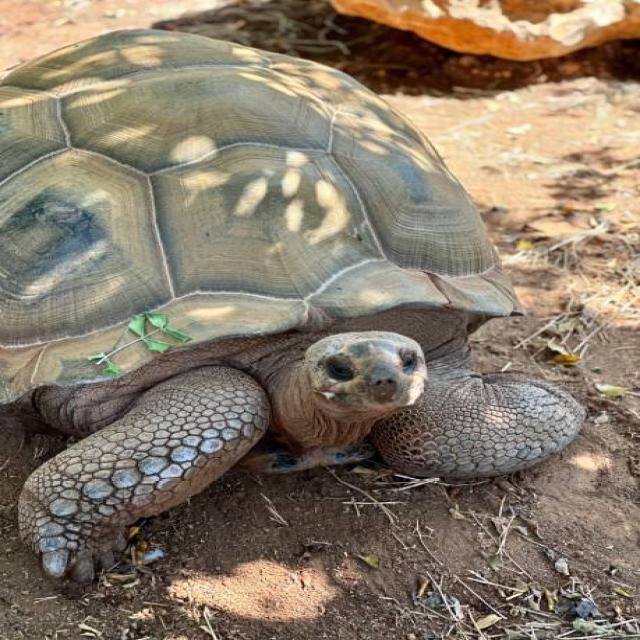tortoise: (11, 22, 518, 337), (0, 403, 257, 586), (227, 319, 434, 457), (394, 366, 619, 491)
